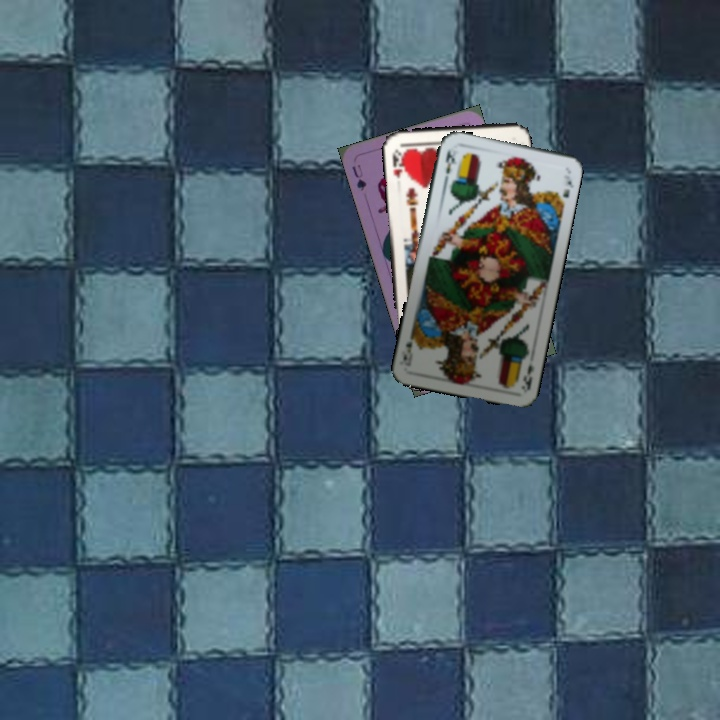EK: (440, 146, 457, 185), (519, 360, 536, 393)
GU: (347, 160, 369, 194)
HK: (388, 146, 407, 181)
